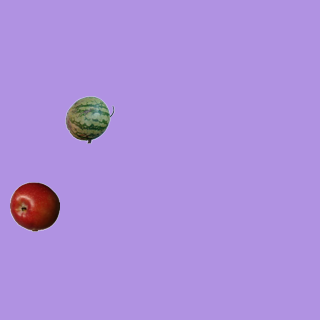Apple Braeburn: (9, 181, 59, 231)
Watermelon: (64, 94, 114, 144)
